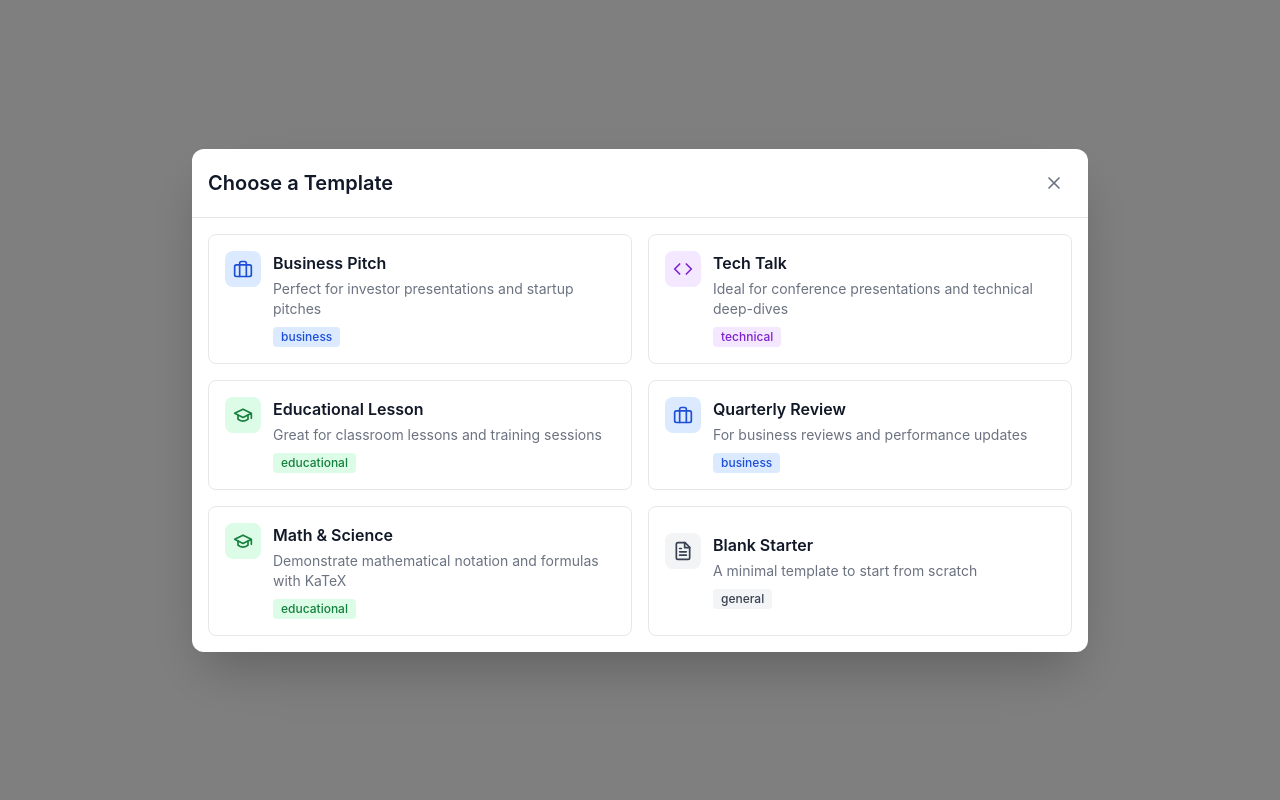
Test: TemplatePicker › template selection flow › shows preview when template is clicked
# Click on Business Pitch template
Click the heading "Business Pitch" at [330, 262], box [273, 252, 386, 272]
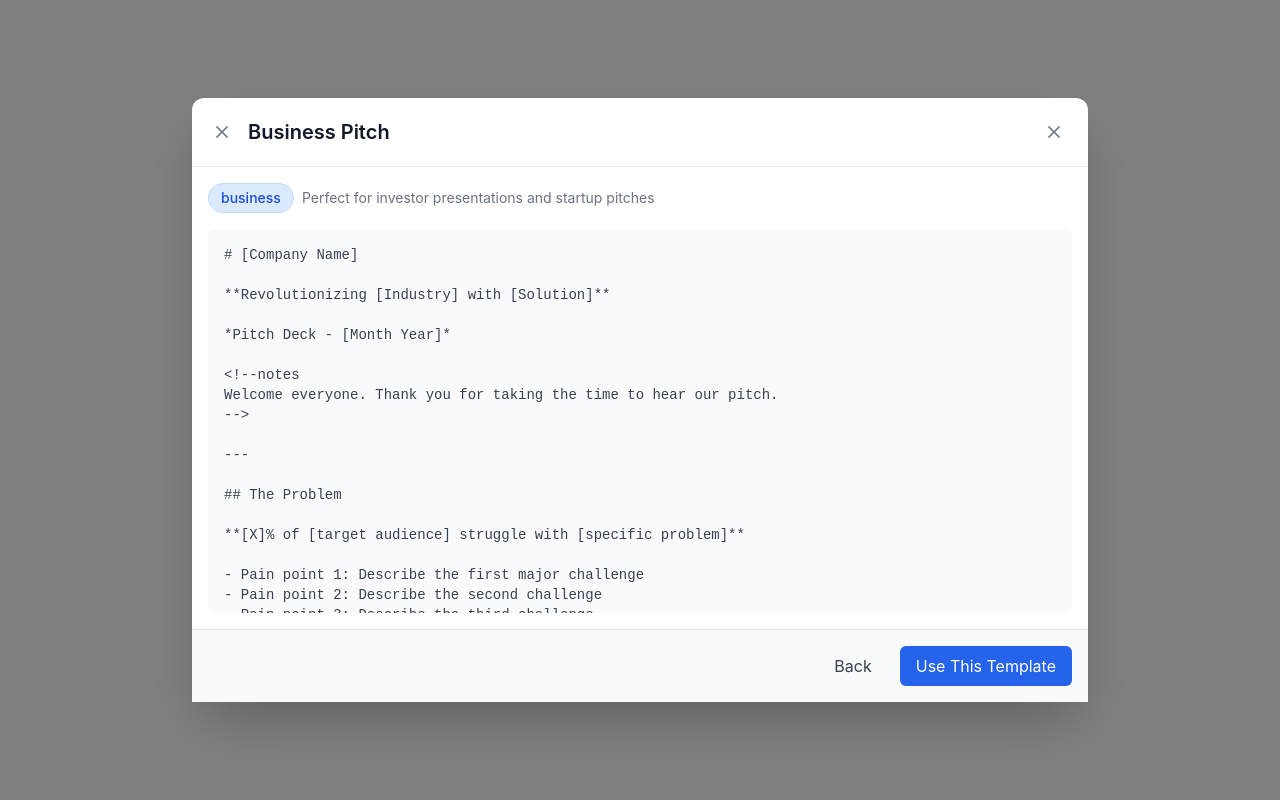
Expected: the heading "Business Pitch" is shown, [248, 118, 390, 146]
Expected: the button "Use This Template" is shown, [900, 646, 1072, 686]
Expected: the button "Back" is shown, [818, 646, 888, 686]
